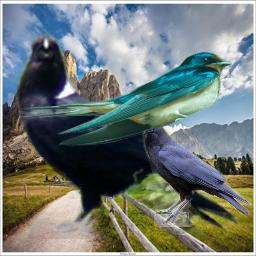Crow: (14, 34, 242, 239), (139, 119, 252, 227)
Swallow: (18, 51, 232, 148)
